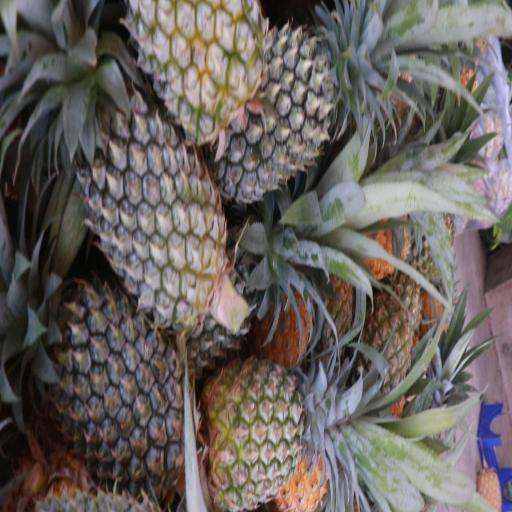------------------------------: (199, 360, 328, 510), (129, 0, 265, 141)
